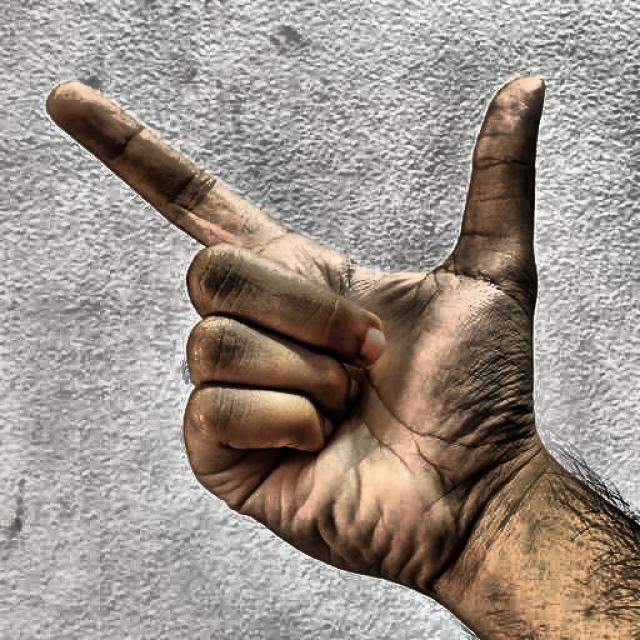ChandraBindu: (45, 17, 566, 608)
